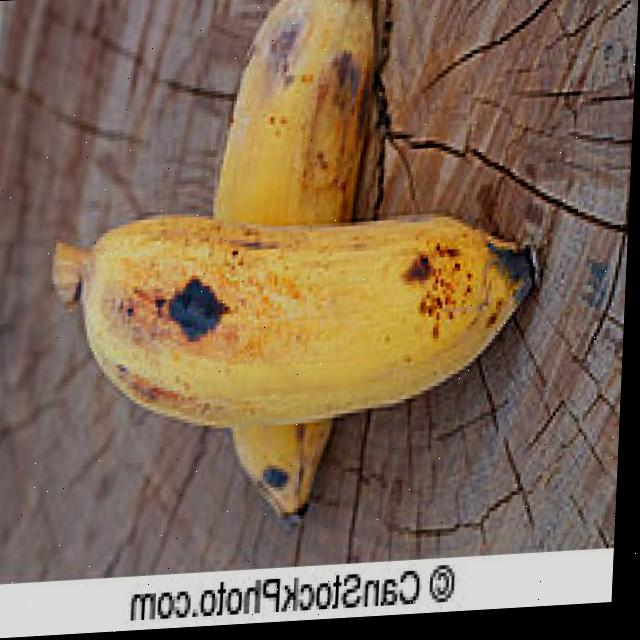banana: (38, 188, 550, 447), (177, 0, 390, 543)
